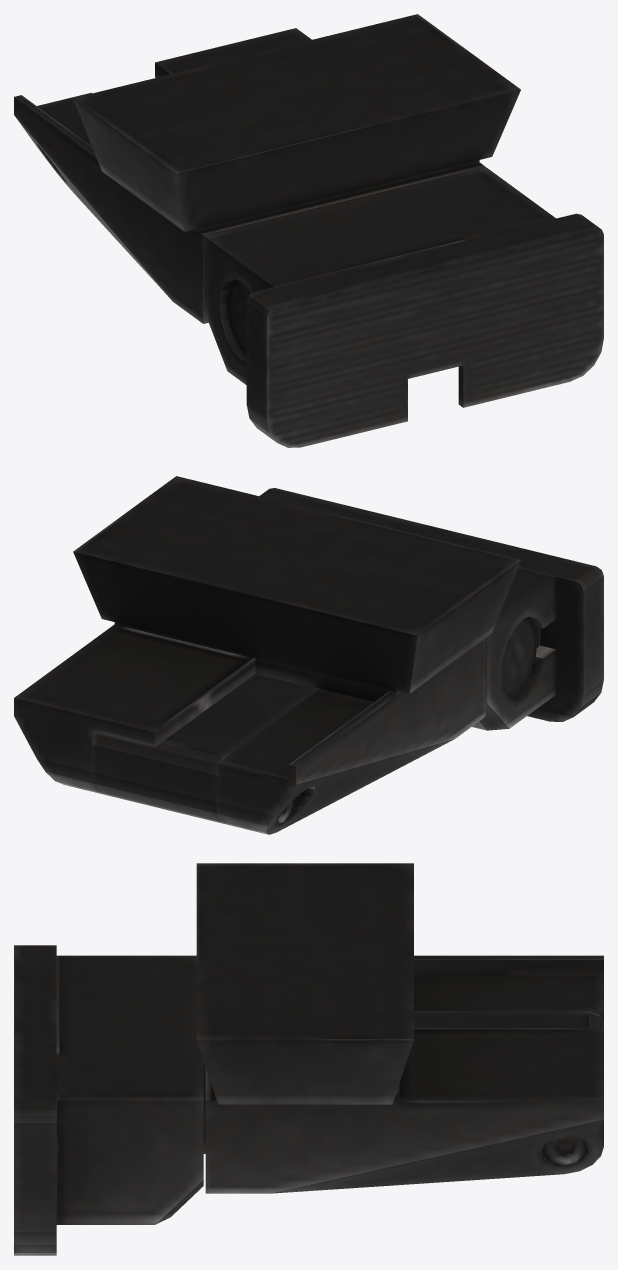
3 renders of one model, top to bottom at view 1: azimuth 30°, elevation 25°; view 2: azimuth 150°, elevation 25°; view 3: azimuth 270°, elevation 25°, orthographic. The views are drawn at different scales.
Parts seen in each view (by area): view 1: TW_6194f2df645b5d229654ad77_PZ_Import; view 2: TW_6194f2df645b5d229654ad77_PZ_Import; view 3: TW_6194f2df645b5d229654ad77_PZ_Import.
Boxes of the visible parts, box(x1,y1,x2,y2) form: TW_6194f2df645b5d229654ad77_PZ_Import: box(14, 14, 603, 447); TW_6194f2df645b5d229654ad77_PZ_Import: box(14, 476, 603, 834); TW_6194f2df645b5d229654ad77_PZ_Import: box(14, 863, 603, 1255).
Size of the model in its own units: 0.0123 by 0.0173 by 0.00747.
Materials: 1 (1 with a texture image).
